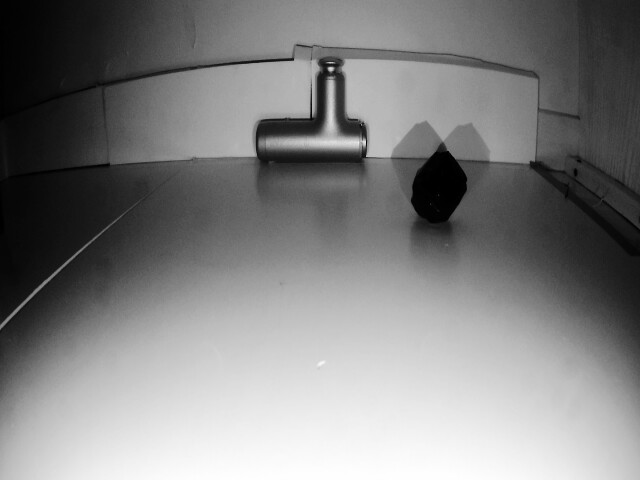black: (417, 155, 467, 224)
